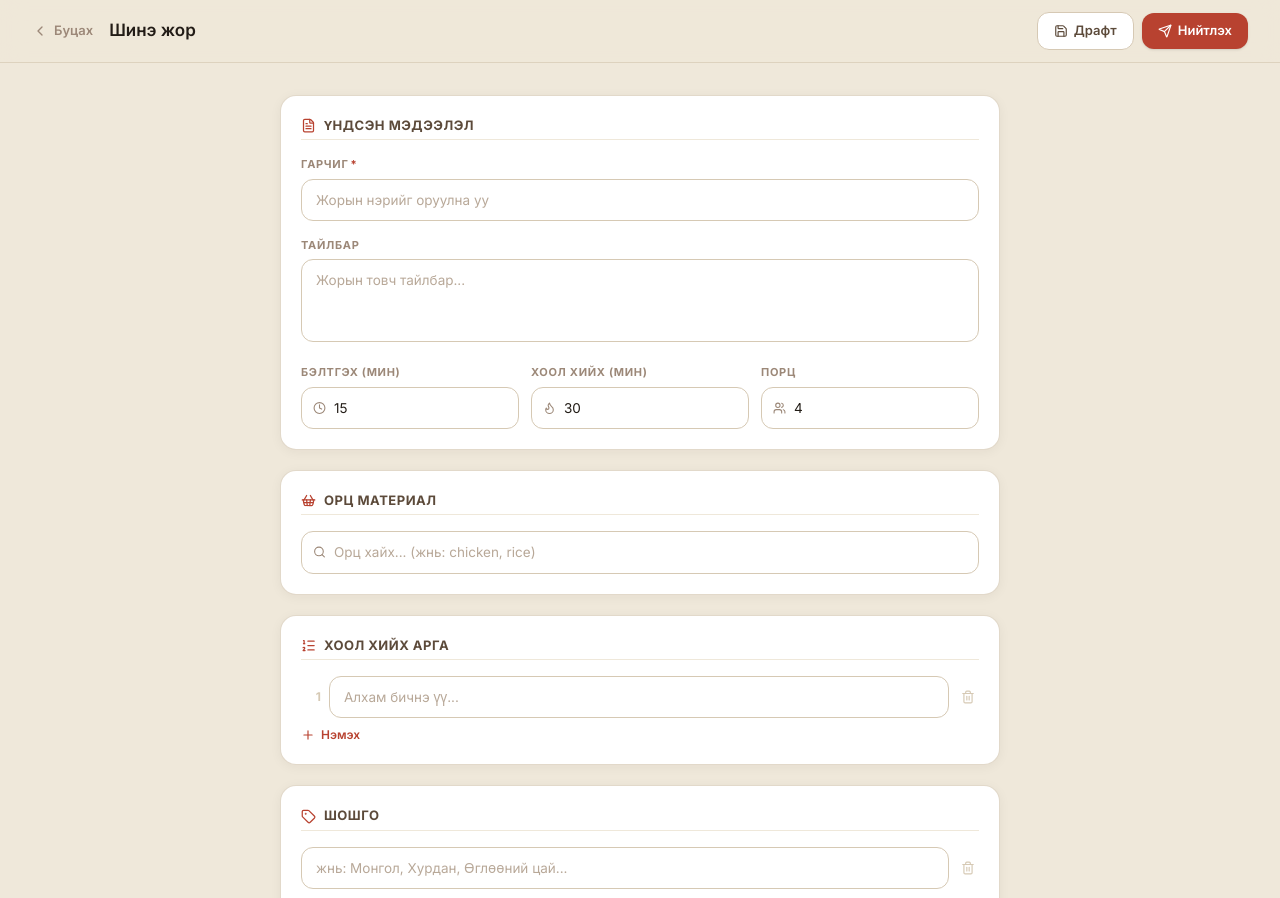
Test: NewRecipePage — create recipe › shows error when title is missing on draft save
Click the button with aria-label "Драфт хадгалах": (1085, 31) [1037,12,1134,50]
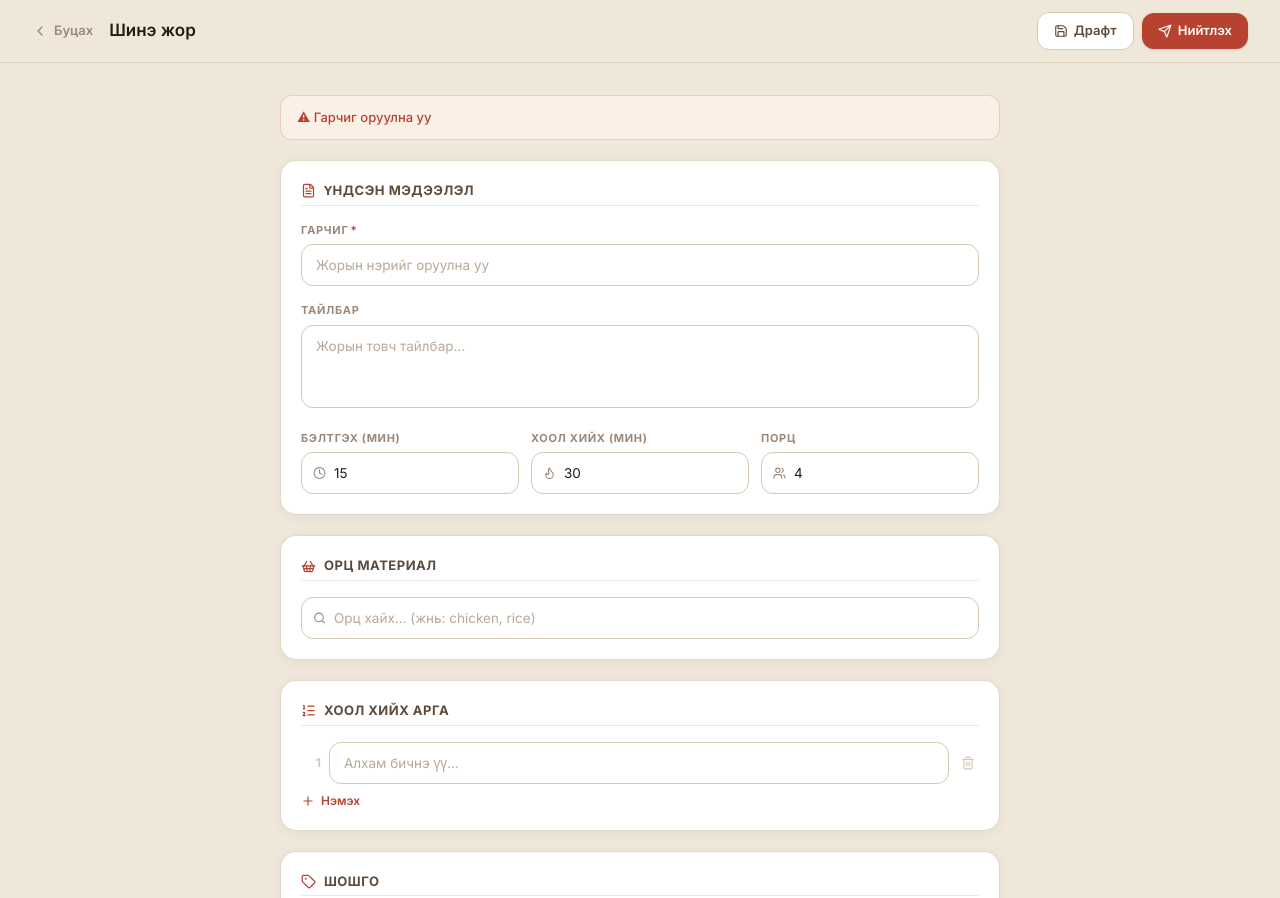
expect the text "⚠ Гарчиг оруулна уу" is shown: met, box [280,94,1000,140]
